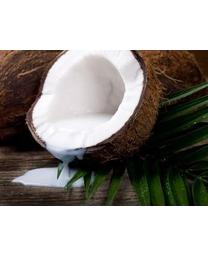coconut: (25, 50, 161, 168)
